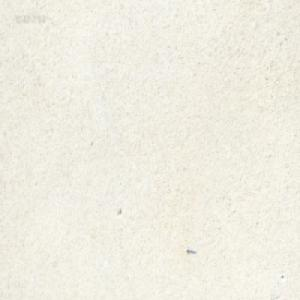Nail: (186, 247, 196, 254)
